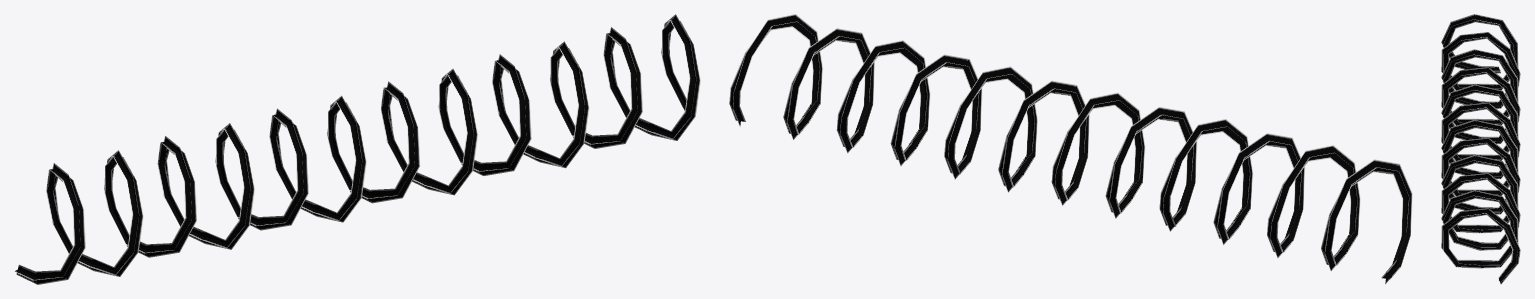
The model's file is Wires.fbx.
3 renders of one model, left to right at view 1: azimuth 30°, elevation 25°; view 2: azimuth 150°, elevation 25°; view 3: azimuth 270°, elevation 25°, orthographic. The views are drawn at different scales.
Parts seen in each view (by area): view 1: Box024; view 2: Box024; view 3: Box024.
Boxes of the visible parts, x1,y1,x2,y2 form: Box024: [14, 14, 700, 284]; Box024: [729, 14, 1412, 284]; Box024: [1441, 14, 1520, 284].
Bounding box in the file's own units: 570 × 87.8 × 89.57.
